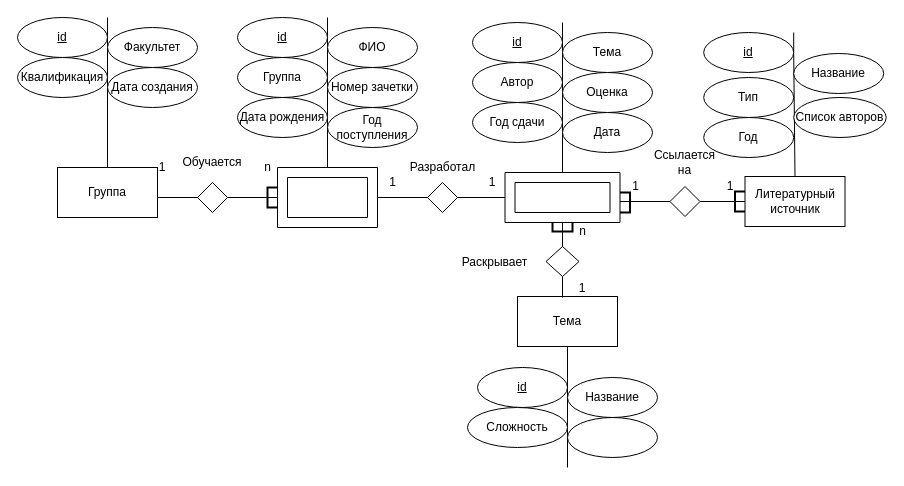
This 904x486 diagram has some shape labels left out. Here are the shapes that lost their labels. From the top down, the centre of each, then its label:
At point 327,197: "Студент".
At point 562,197: "Курсовой проект".
At point 612,437: "Год первой реализации".
